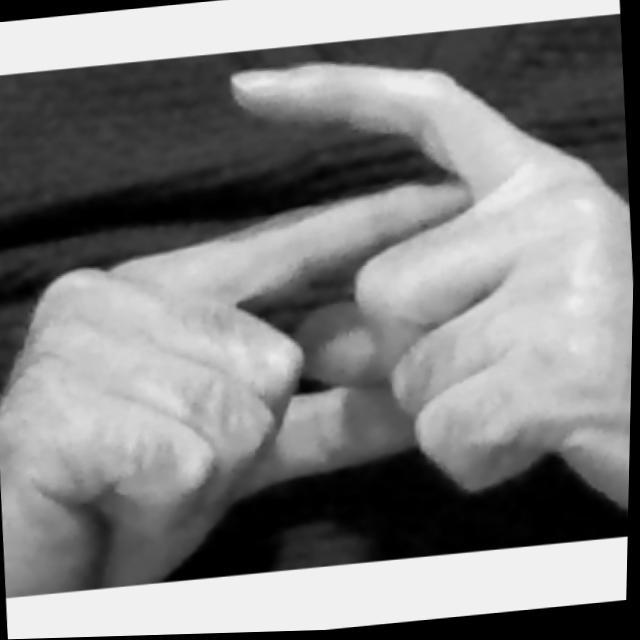G-: (0, 11, 639, 598)
